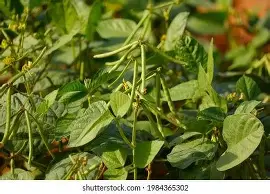crops: (0, 0, 265, 179)
